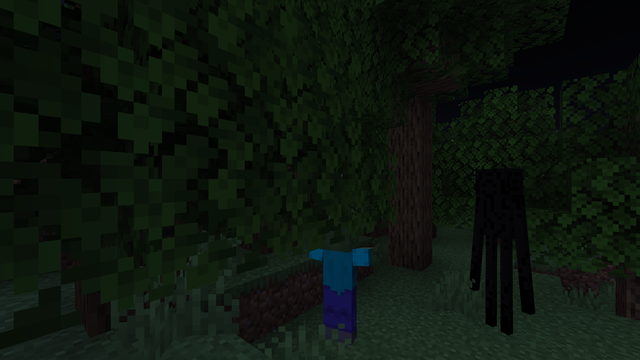endermens: (476, 162, 521, 343)
zombies: (314, 243, 364, 354)
